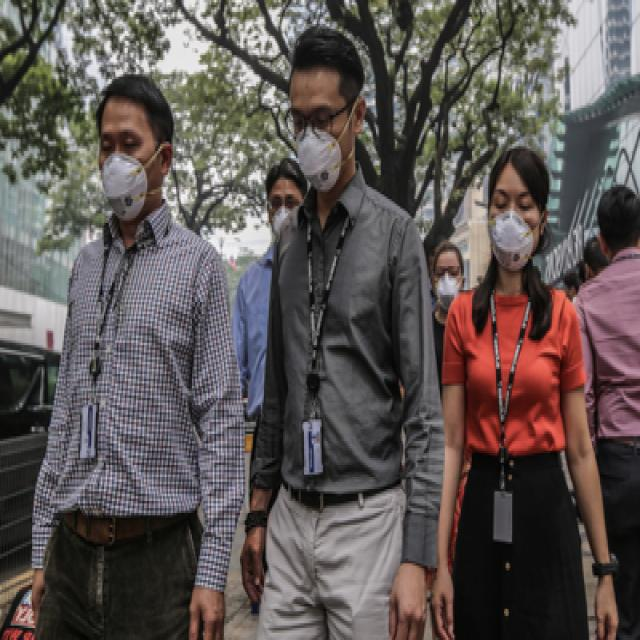with_mask: (288, 96, 350, 196), (96, 125, 158, 223), (487, 184, 538, 270), (268, 187, 302, 237), (434, 259, 464, 309)
